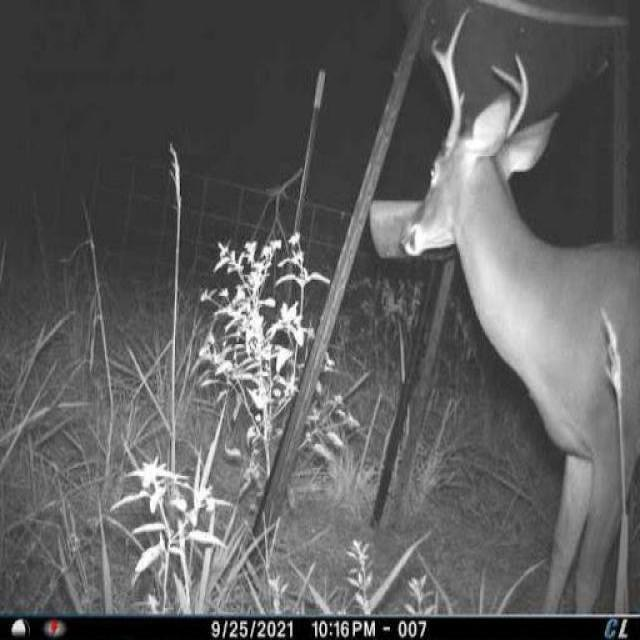deer: (395, 0, 640, 616)
